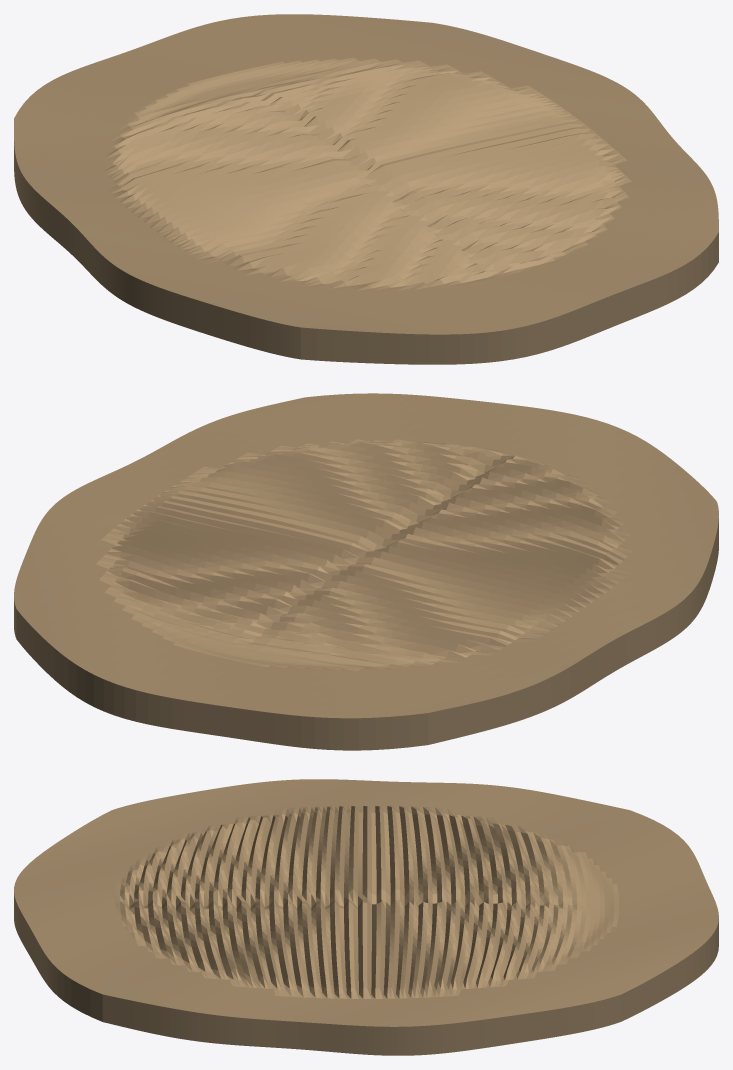
3 renders of one model, top to bottom at view 1: azimuth 30°, elevation 25°; view 2: azimuth 150°, elevation 25°; view 3: azimuth 270°, elevation 25°, orthographic. The views are drawn at different scales.
Parts seen in each view (by area): view 1: original_Dickinsonia_fossil_mould_in_continuous_matrix_SAM_P; view 2: original_Dickinsonia_fossil_mould_in_continuous_matrix_SAM_P; view 3: original_Dickinsonia_fossil_mould_in_continuous_matrix_SAM_P.
Part boxes in pixels (bbox=[...]): original_Dickinsonia_fossil_mould_in_continuous_matrix_SAM_P: bbox=[14, 14, 718, 364]; original_Dickinsonia_fossil_mould_in_continuous_matrix_SAM_P: bbox=[14, 393, 718, 750]; original_Dickinsonia_fossil_mould_in_continuous_matrix_SAM_P: bbox=[14, 779, 718, 1055].
Bounding box in the file's own units: 0.1518 × 0.0104 × 0.1814.
